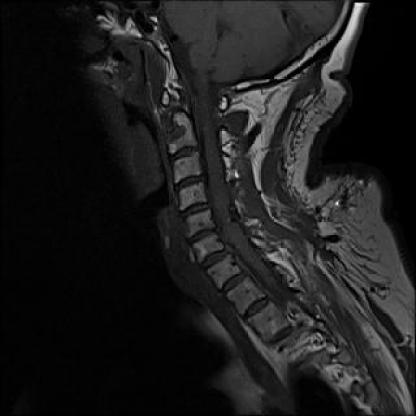Disc Protrusionrotation: (197, 250, 233, 267), (172, 174, 207, 190), (184, 227, 221, 242), (180, 201, 213, 217)
Osteophytesrotation: (172, 174, 207, 190), (184, 227, 221, 242)
